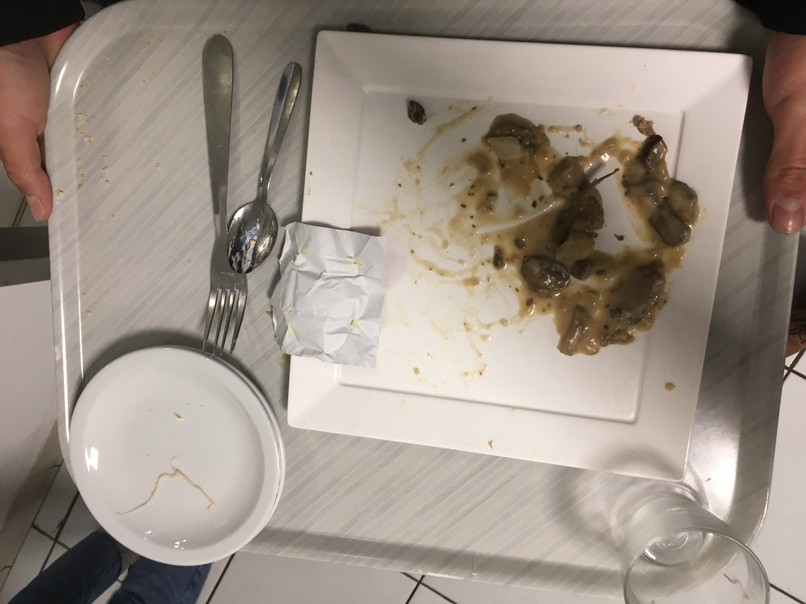cup: (618, 485, 780, 604)
cutlery: (168, 25, 246, 361), (221, 57, 299, 280)
orga: (499, 117, 695, 357)
trash: (278, 219, 391, 371)
